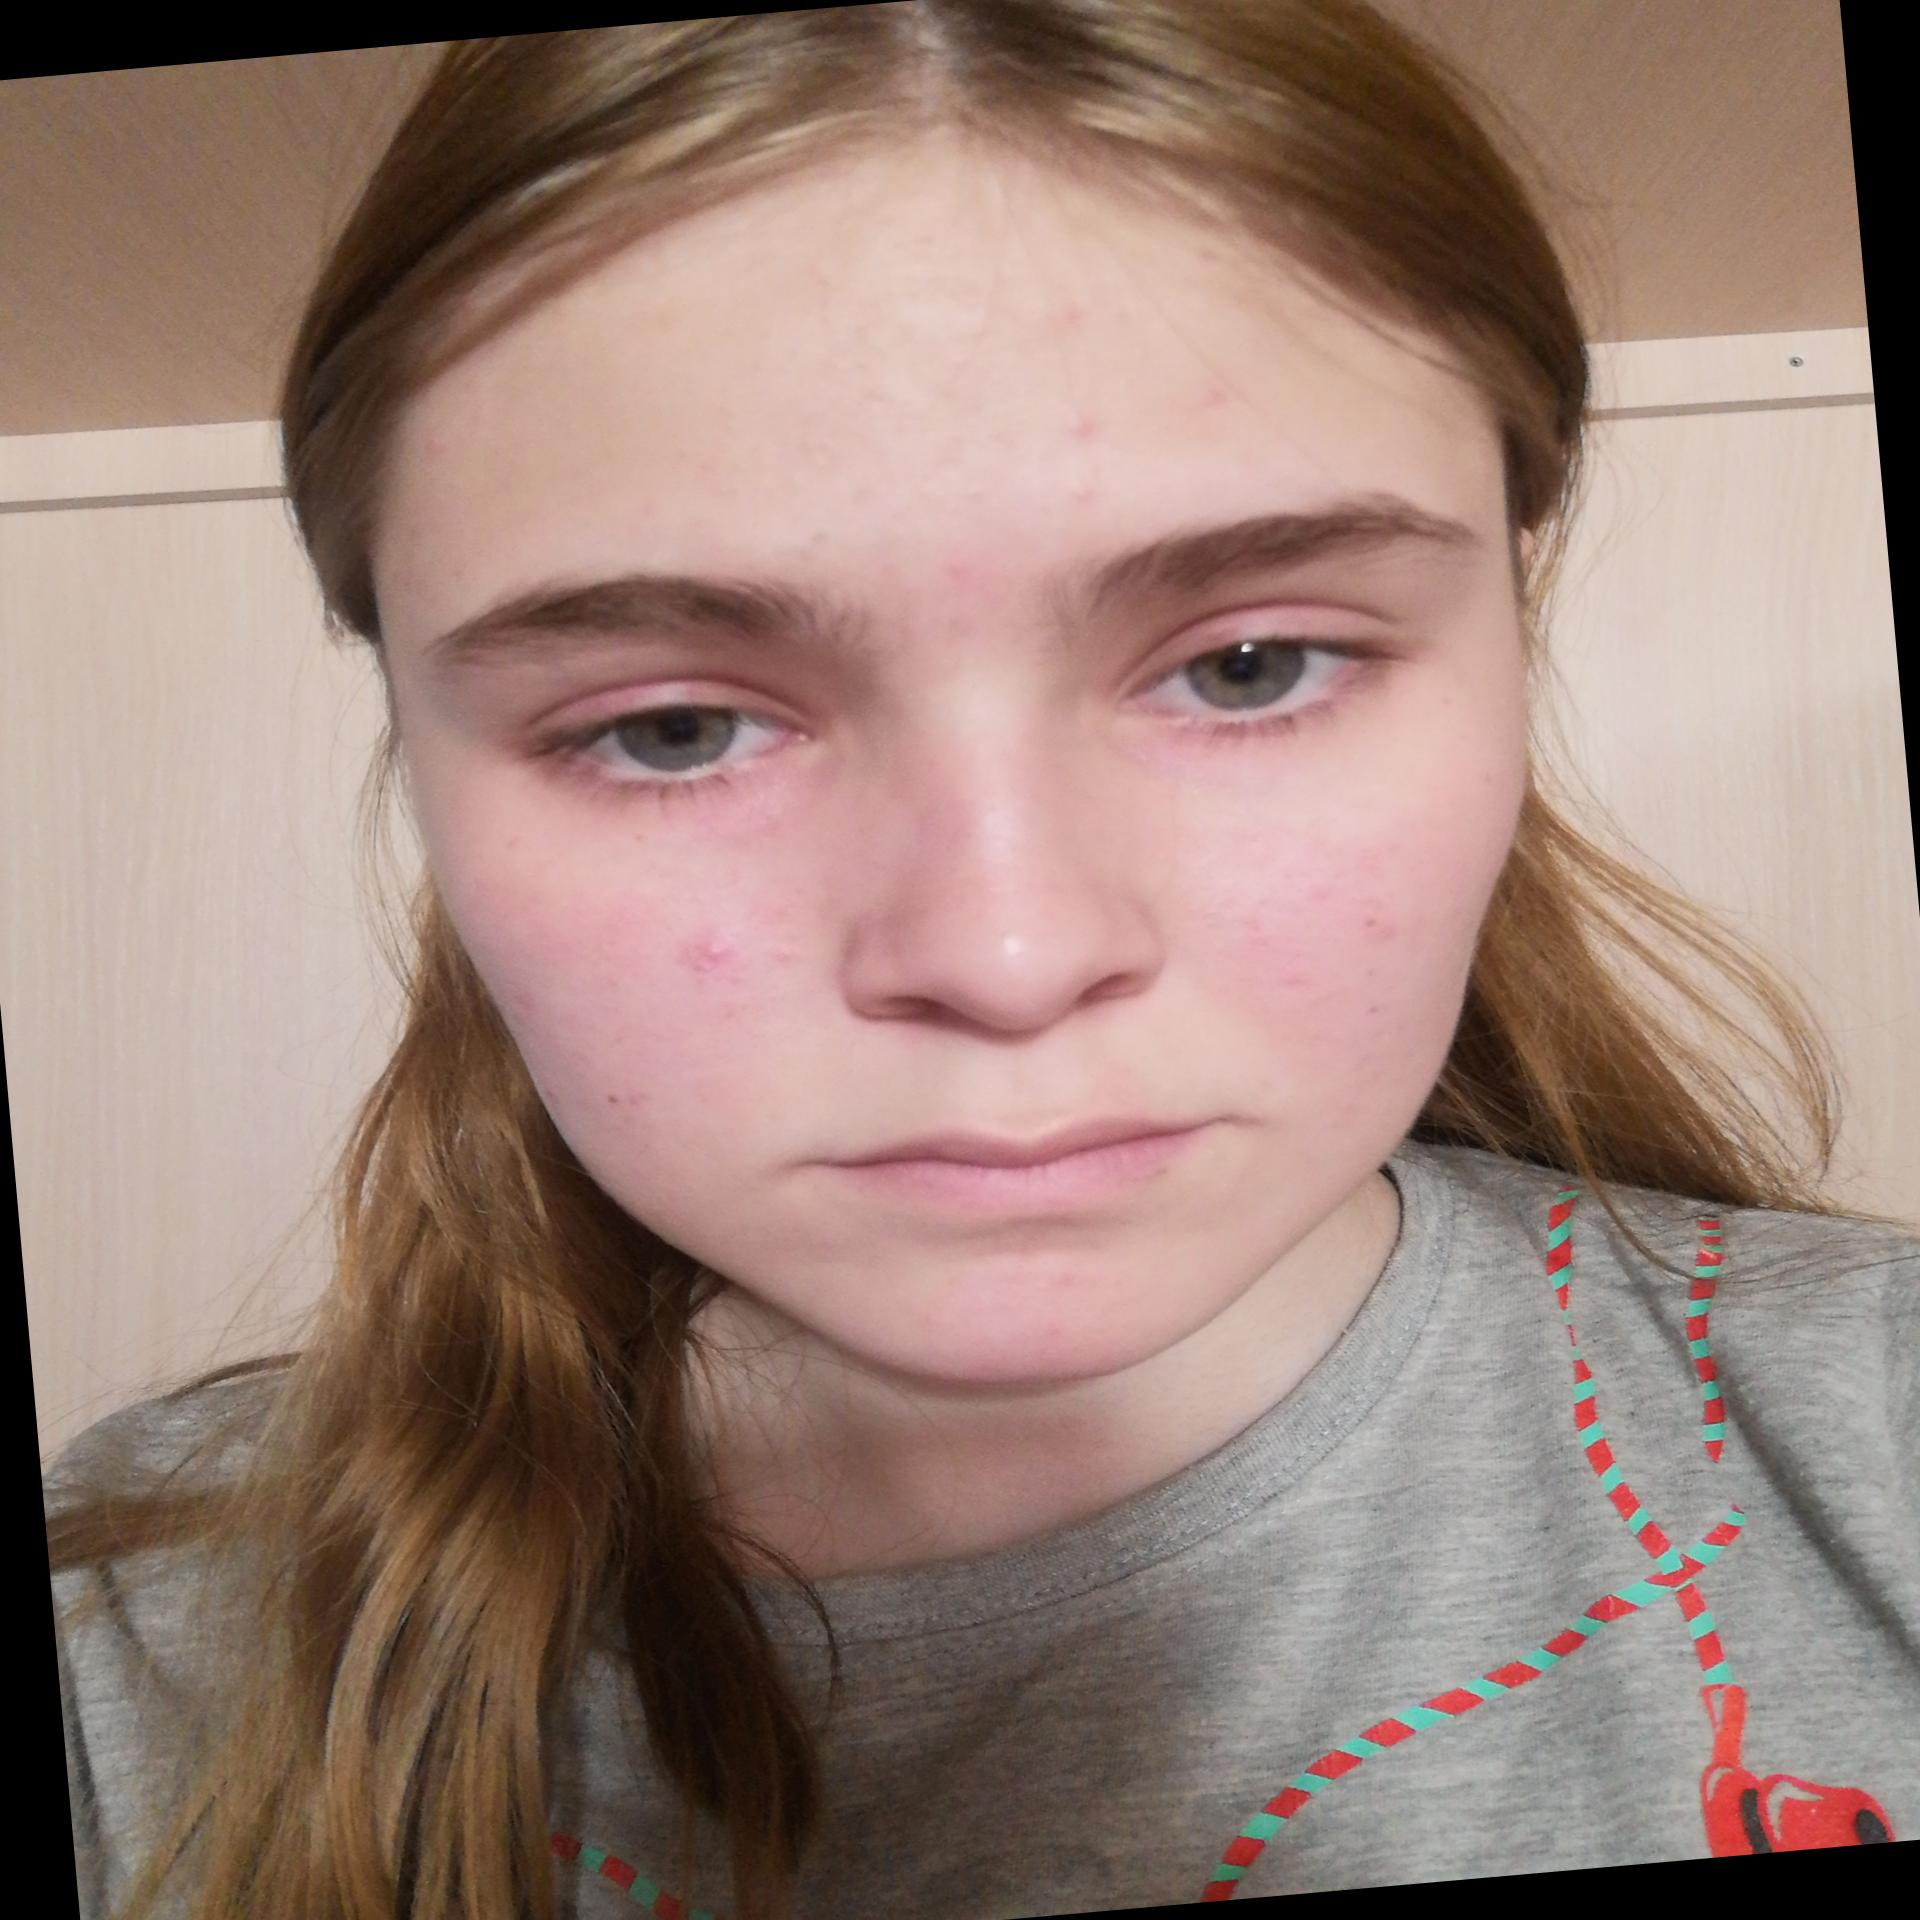Acne: (666, 928, 749, 986), (1043, 288, 1095, 338), (1234, 904, 1276, 958), (934, 549, 985, 593), (1352, 911, 1405, 951), (1187, 376, 1238, 417), (1055, 478, 1106, 517), (1057, 410, 1104, 445), (1029, 1315, 1078, 1347), (1043, 1262, 1088, 1296), (768, 937, 805, 971)
